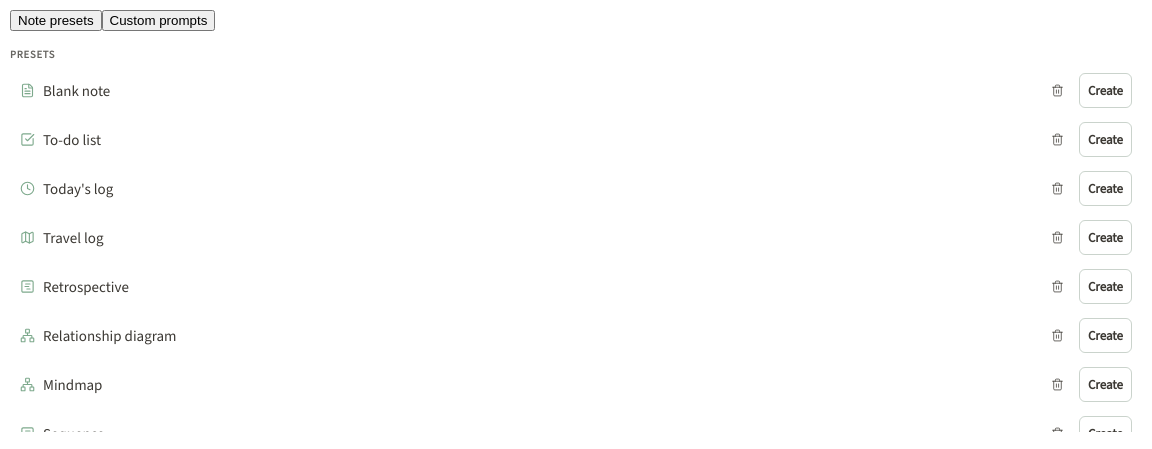
PresetList component › manage mode — '노트 프리셋' / 'AI 액션' 탭 › 'AI 액션' 탭을 누르면 AiActionEditor가 뜨고 '노트 프리셋' 목록은 사라지며, 되돌아가면 원상복구된다
The width and height of the screenshot is (1152, 449).
Click the tab with test id "preset-manage-tab-ai-actions": {"x": 158, "y": 20} [102,10,215,31]
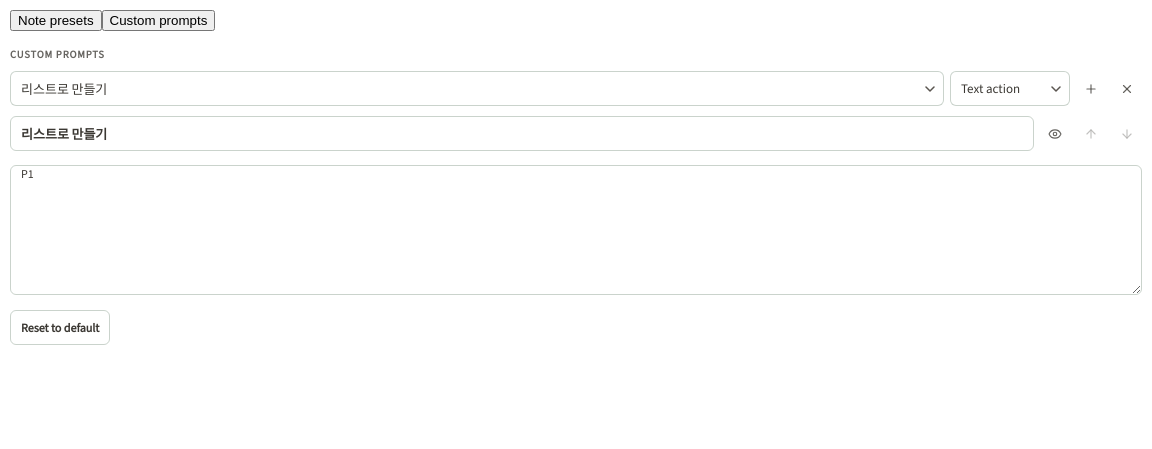
Result: the element with test id "ai-action-editor" is shown
Click the tab with test id "preset-manage-tab-notes": {"x": 56, "y": 20} [10,10,102,31]
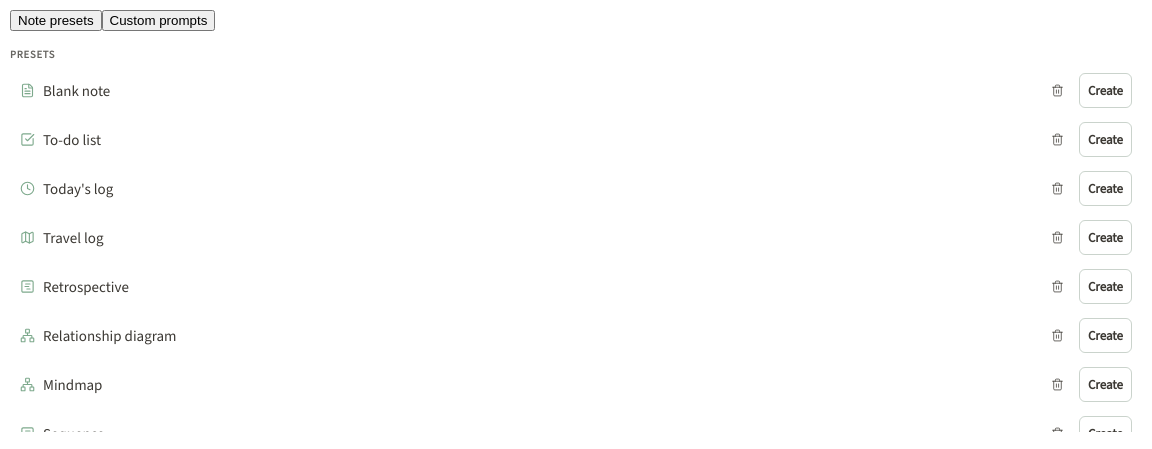
Result: the element with test id "note-templates-group" is shown
Result: the element with test id "ai-action-editor" is gone
